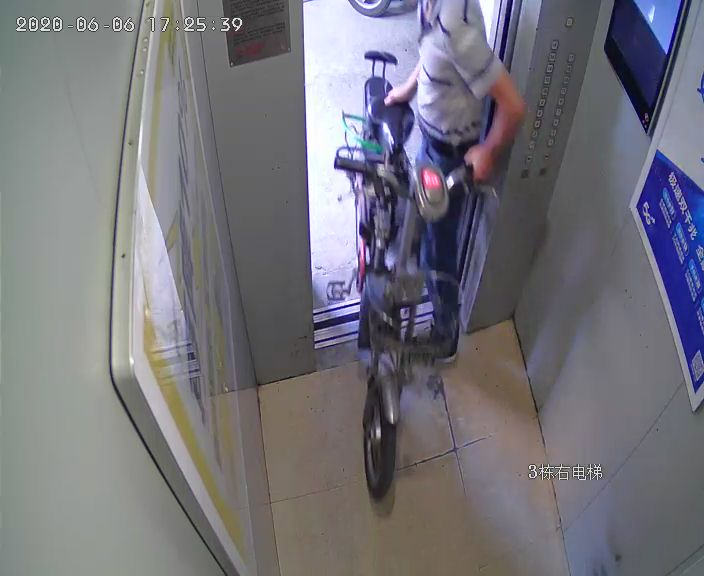Electric-bicycle: (329, 50, 485, 504)
